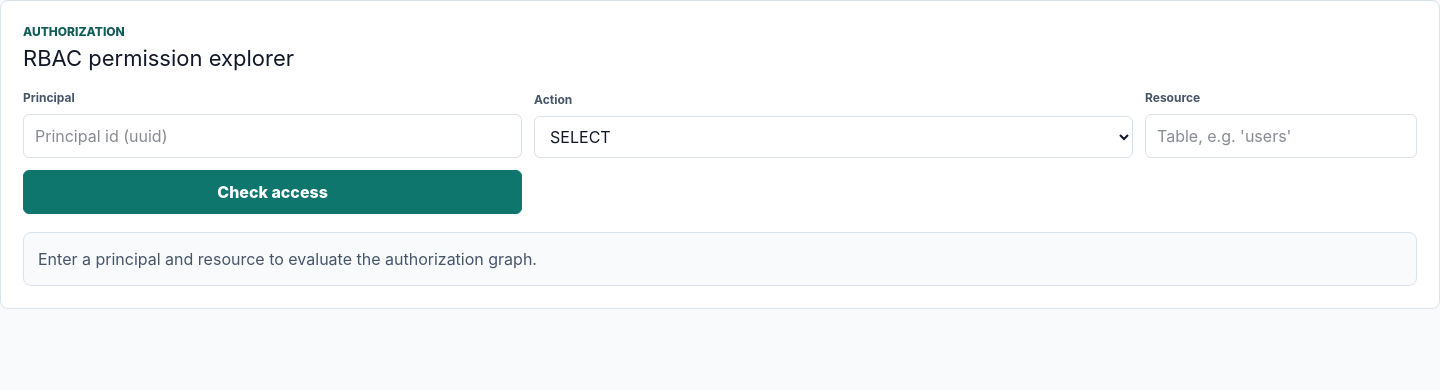
Test: PermissionExplorer › renders a ALLOW explanation
Step 1. Type "00000000-0000-0000-0000-000000000001" into the field labelled "Principal" → (273, 136), box [23,114,522,158]
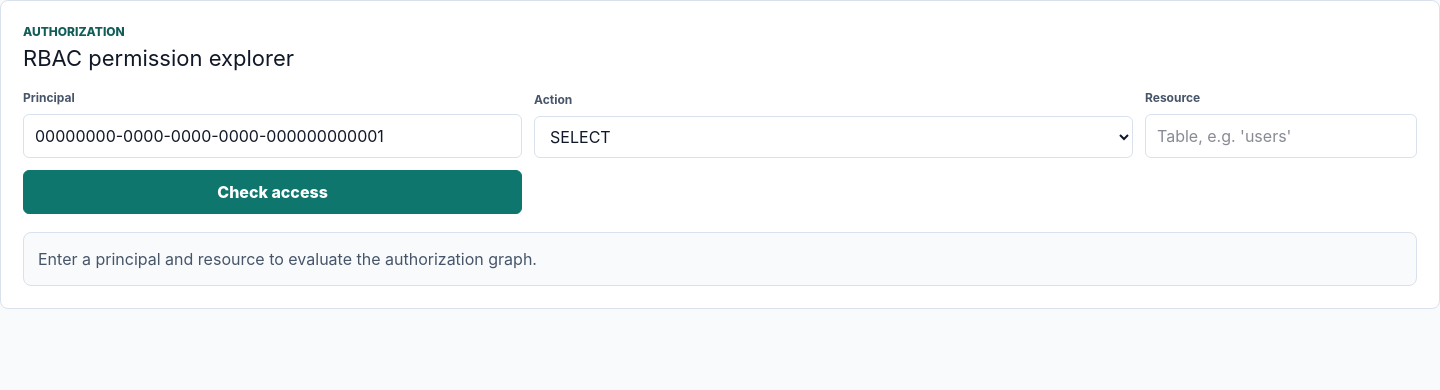
Step 2. Type "items" into the field labelled "Resource" → (1281, 136), box [1145,114,1417,158]
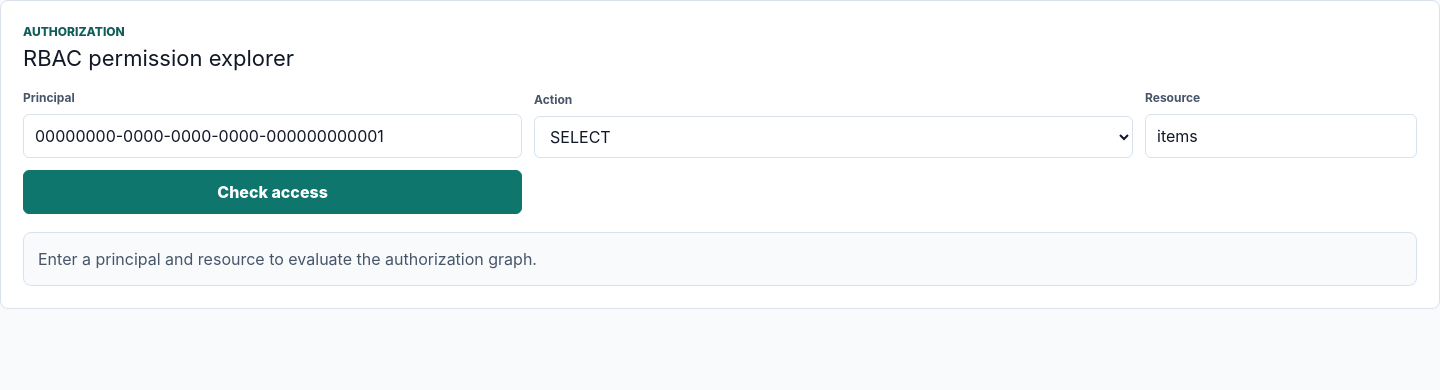
Step 3. Click the button "Check access" → (273, 192), box [23,170,522,214]
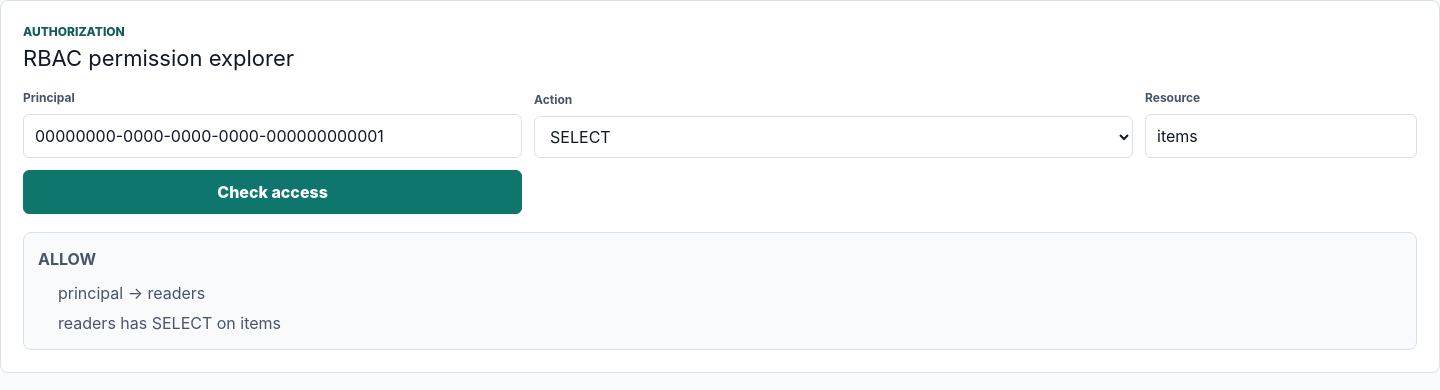
Expected: the text "ALLOW" is shown, [38,249,96,269]
Expected: the list item "principal -> readers" is shown, [58,283,205,303]
